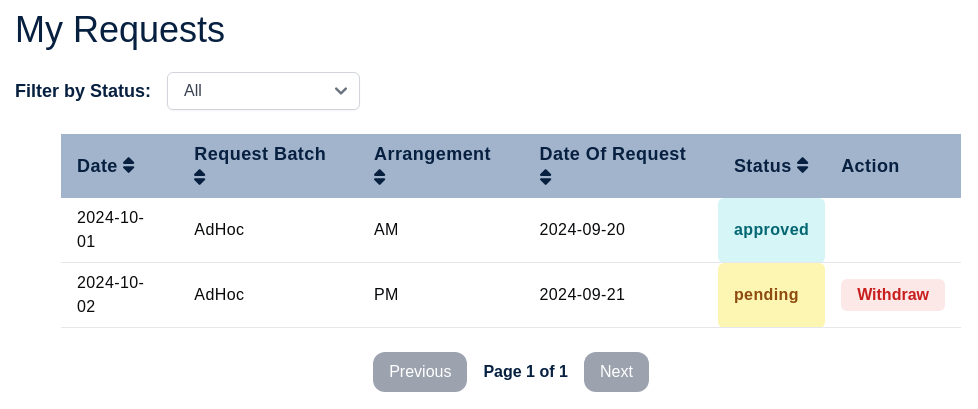
Test: RequestTable Component › filters requests by status correctly
Note: Verify that filter by status works (select "pending" status)
Step 1. Select "Pending" in the dropdown labelled "Filter by Status:" → (264, 91), box [167,72,360,110]
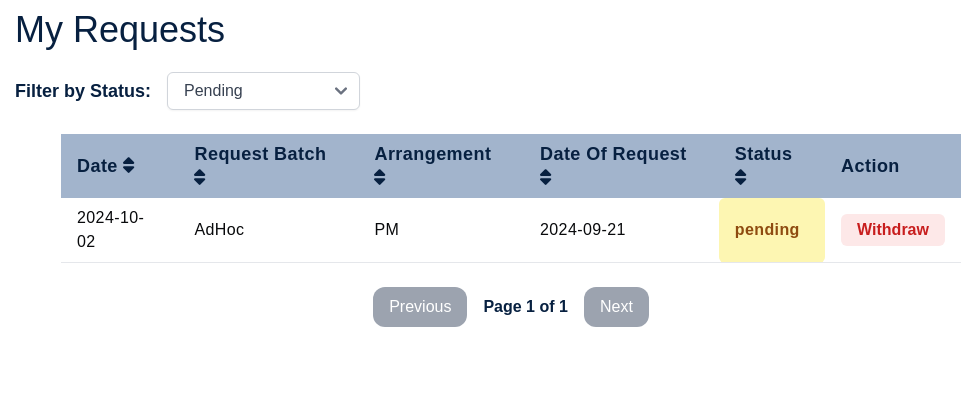
Result: the text "2024-10-02" is shown at [77,209,144,250]
Result: the text "pending" is shown at [735,218,809,242]
Result: the text "approved" is gone
